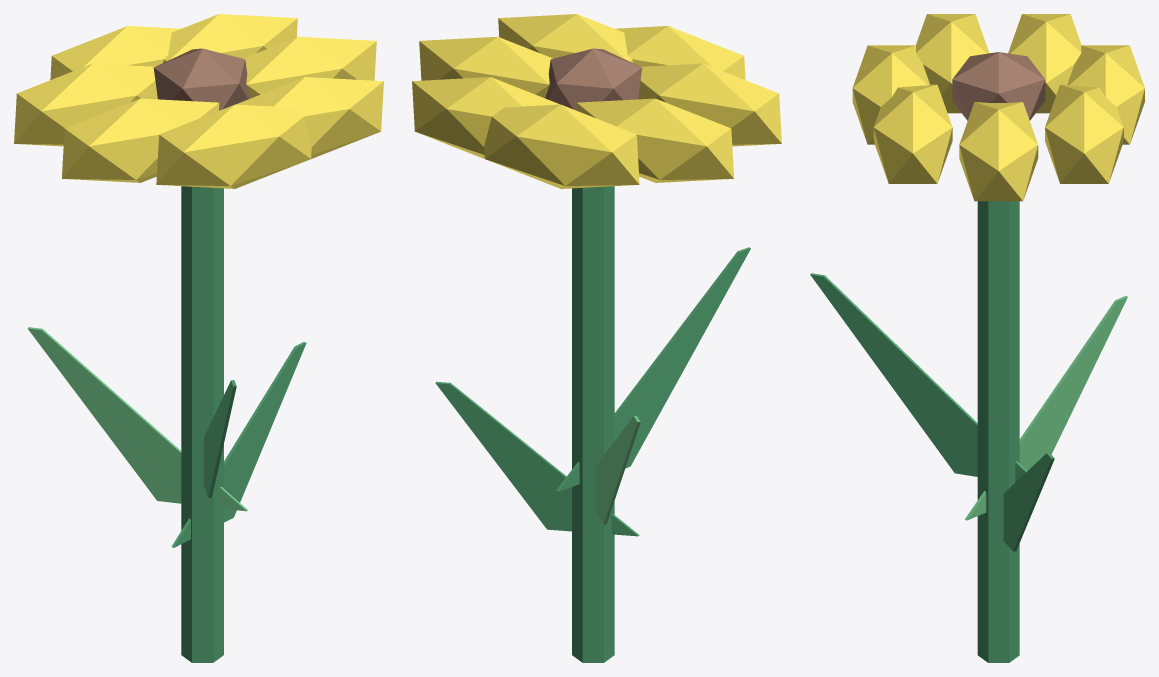
File: Wildflower_BlackEyedSusan.glb
3 views of the same model, side by side, from view 1: azimuth 30°, elevation 25°; view 2: azimuth 150°, elevation 25°; view 3: azimuth 270°, elevation 25° (orthographic).
Visible parts, largest first — view 1: FTF_Nature_Wildflower_BlackEyedSusan_StaticMesh; view 2: FTF_Nature_Wildflower_BlackEyedSusan_StaticMesh; view 3: FTF_Nature_Wildflower_BlackEyedSusan_StaticMesh.
Boxes of the visible parts, left/top/right/bottom form: FTF_Nature_Wildflower_BlackEyedSusan_StaticMesh: left=14, top=14, right=383, bottom=662; FTF_Nature_Wildflower_BlackEyedSusan_StaticMesh: left=412, top=14, right=781, bottom=662; FTF_Nature_Wildflower_BlackEyedSusan_StaticMesh: left=810, top=14, right=1144, bottom=662.
Size of the model in its own units: 0.4618 by 0.79 by 0.3975.
